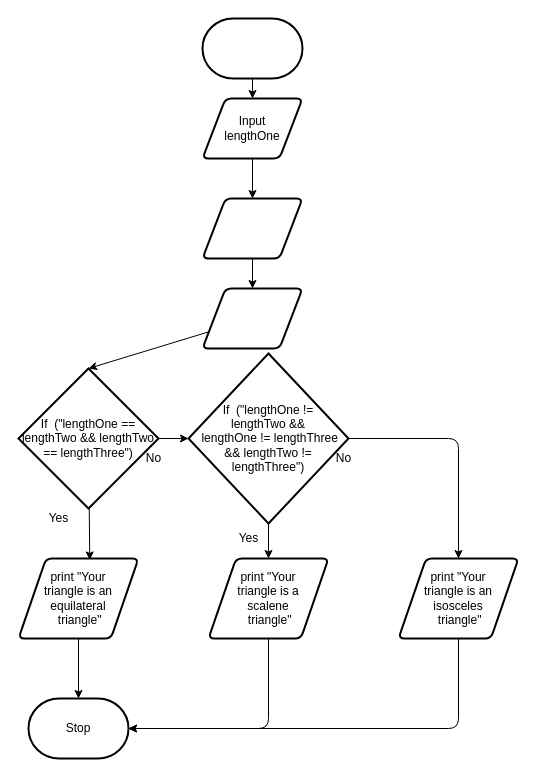
Image size: 536x776. Some labels were removed from this diagram. The centre of each missing label's shape, as x and y in pixels:
Input lengthThree: the point at 252,318
Input lengthTwo: the point at 252,228
Start: the point at 252,48
